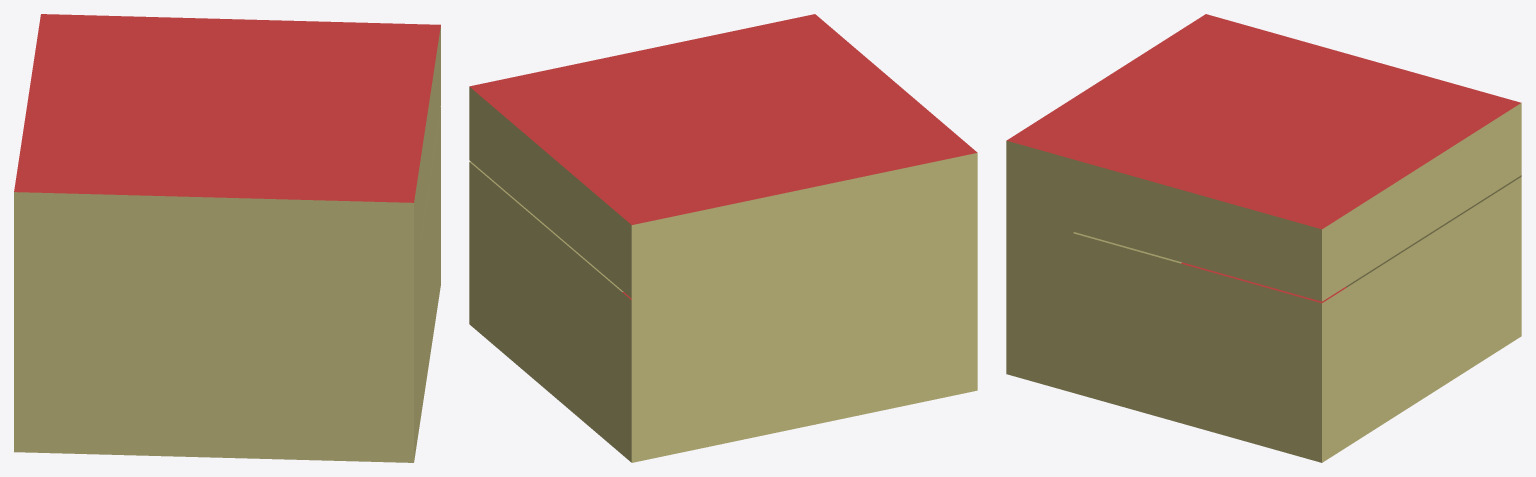
3 views of the same model, side by side, from view 1: azimuth 30°, elevation 25°; view 2: azimuth 150°, elevation 25°; view 3: azimuth 270°, elevation 25° (orthographic). The views are drawn at different scales.
Parts seen in each view (by area): view 1: group_4, group_3; view 2: group_4, group_3; view 3: group_4, group_3.
Part boxes in pixels (x1,y1,x2,y2): group_4: (14,26,440,462); group_3: (14,14,440,202); group_4: (469,87,977,462); group_3: (469,14,977,224); group_4: (1006,103,1521,462); group_3: (1007,14,1521,229).
Size of the model in its own units: 28.51 by 28.81 by 14.41.
